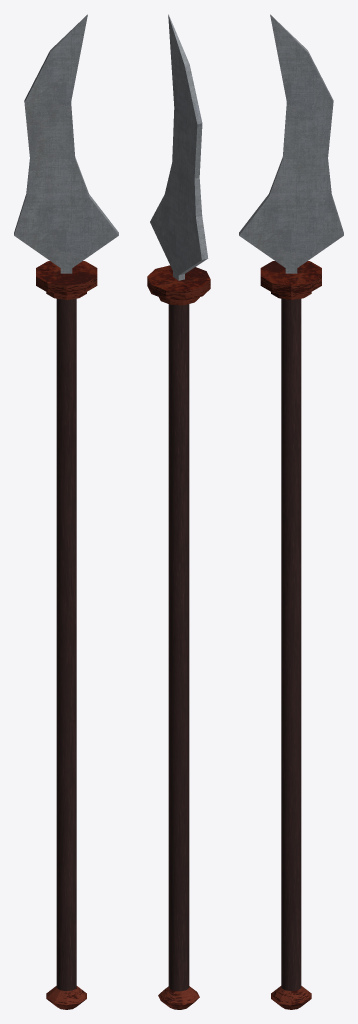
The model's file is lance01.FBX.
The picture shows the model from 3 angles, left to right: view 1: azimuth 90°, elevation 25°; view 2: azimuth 210°, elevation 25°; view 3: azimuth 270°, elevation 25°; orthographic projection.
Visible parts, largest first — view 1: Cylinder001, Box001; view 2: Cylinder001, Box001; view 3: Cylinder001, Box001.
Boxes of the visible parts, x1,y1,x2,y2 form: Cylinder001: (36,261,97,1009); Box001: (14,14,118,273); Cylinder001: (147,265,210,1009); Box001: (150,14,208,280); Cylinder001: (260,261,321,1009); Box001: (239,14,343,273).
Bounding box in the file's own units: 6.21 × 105 × 10.11.
